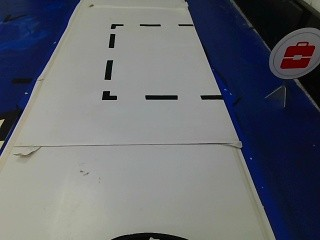company: (269, 28, 318, 81)
